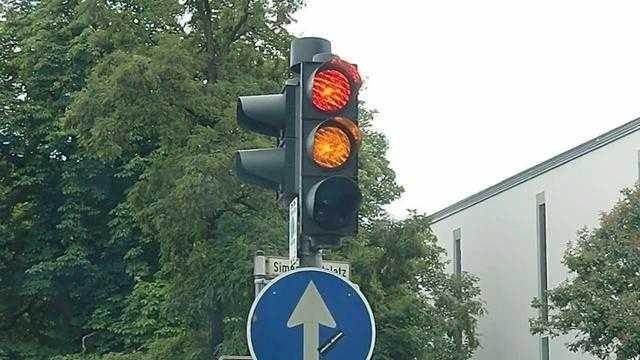red: (302, 58, 363, 119)
